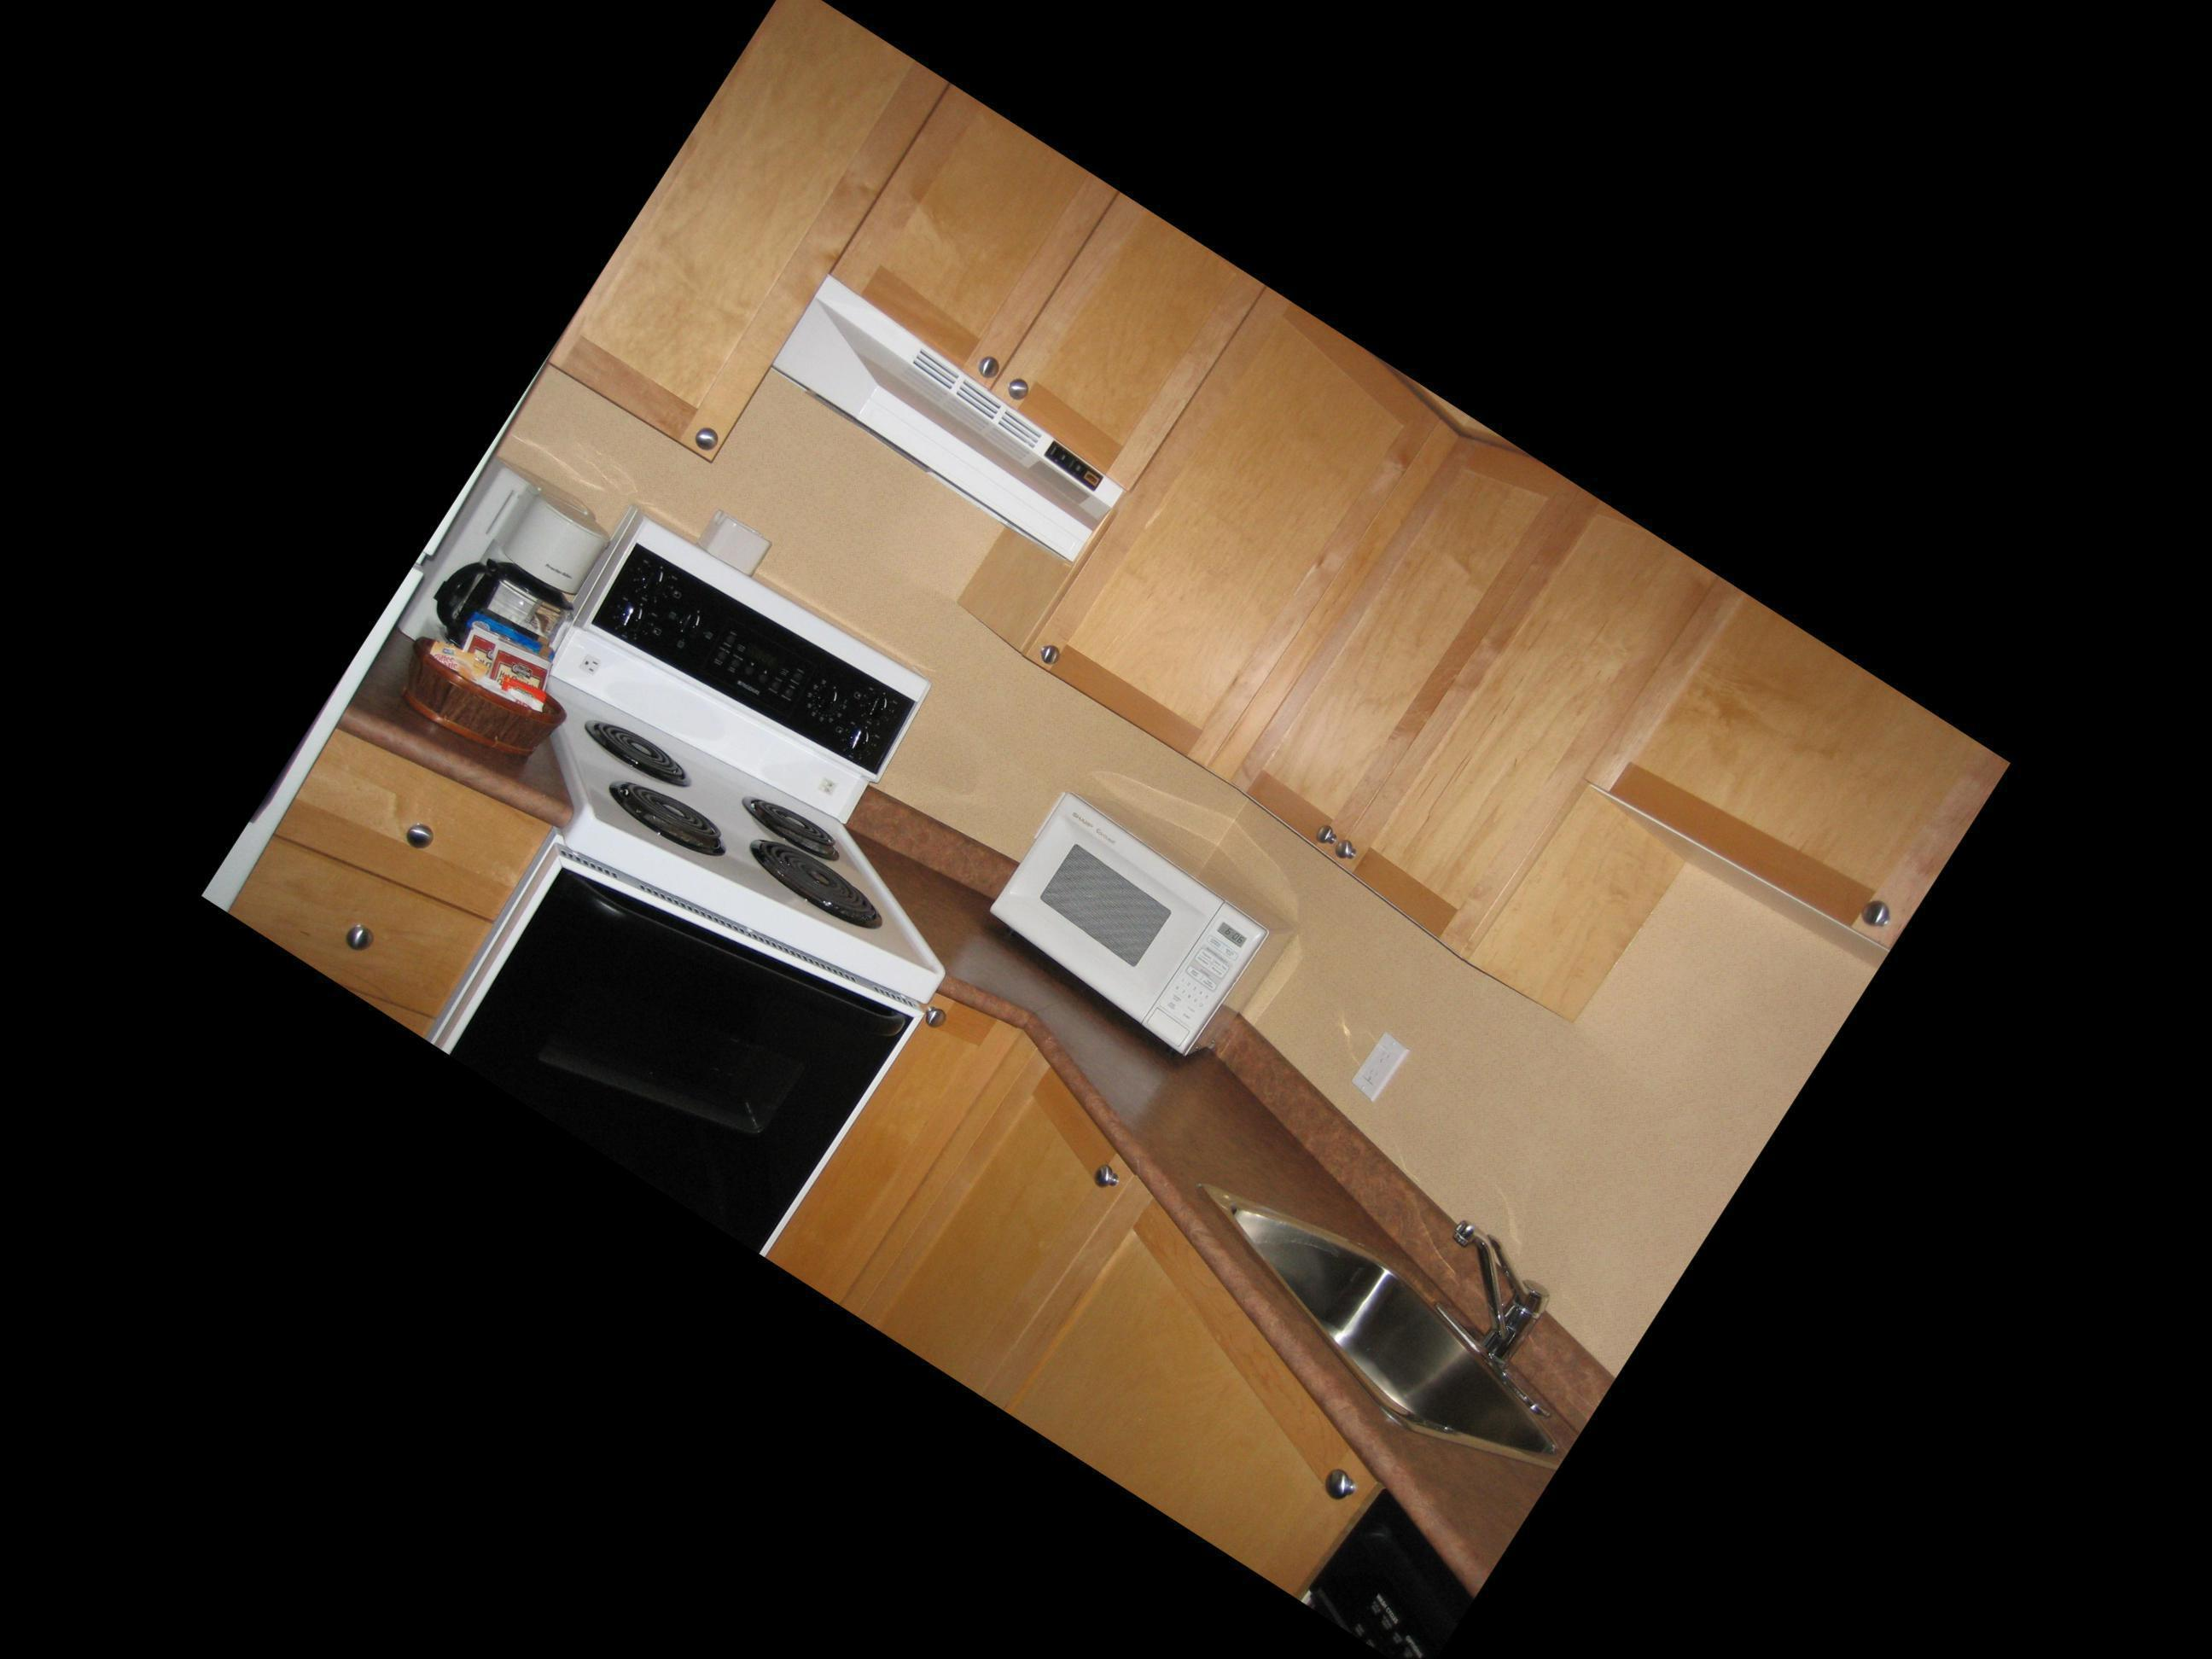Electrodomestico: (371, 556, 1054, 1255)
Lavaplatos: (1212, 1121, 1634, 1497)
